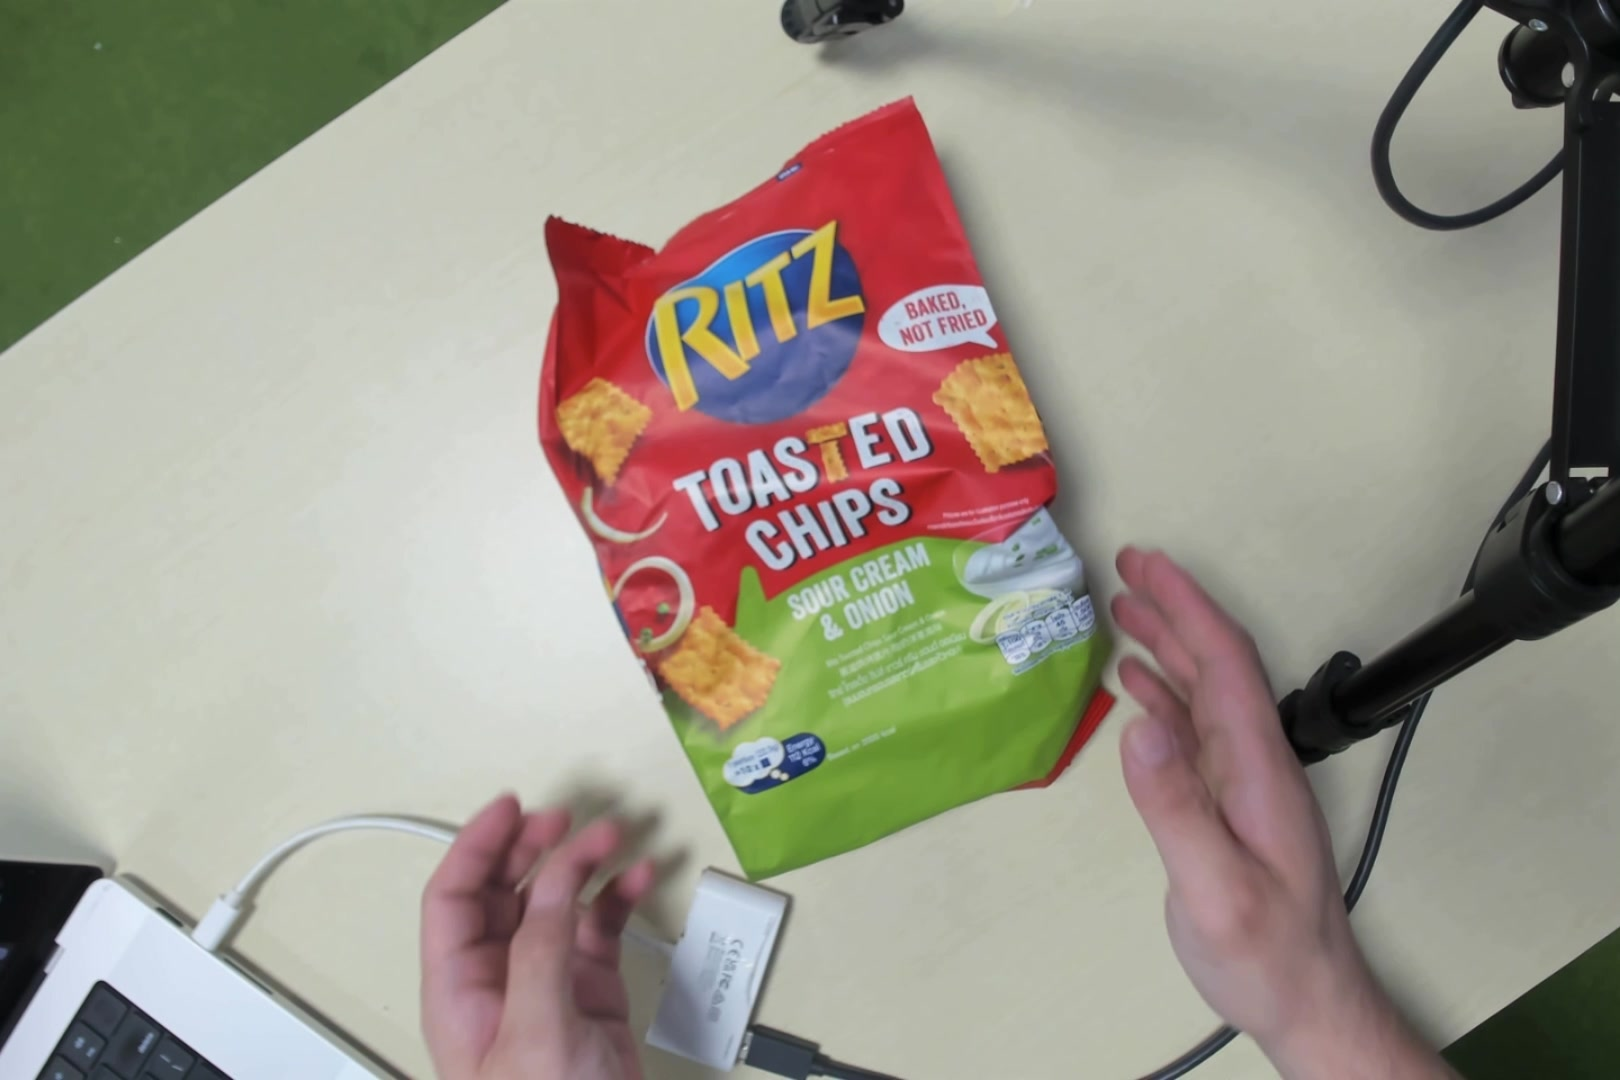BiscuitsCrackersCookies_200-299g_NonHalal_NonHealthy: (568, 180, 1060, 818)
